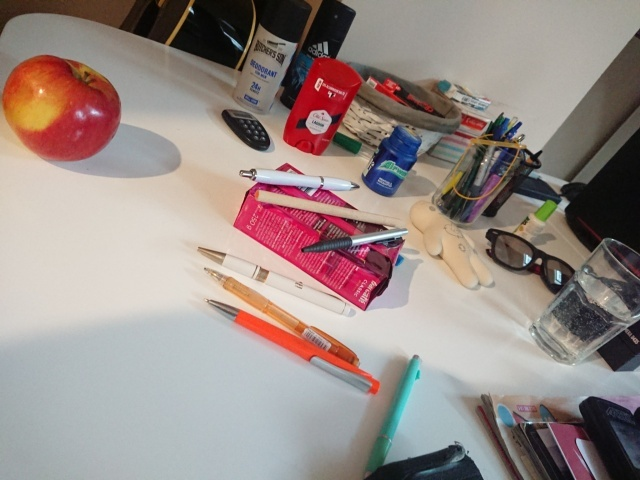Barcaffe Classic Original 225g: (231, 161, 407, 313)
